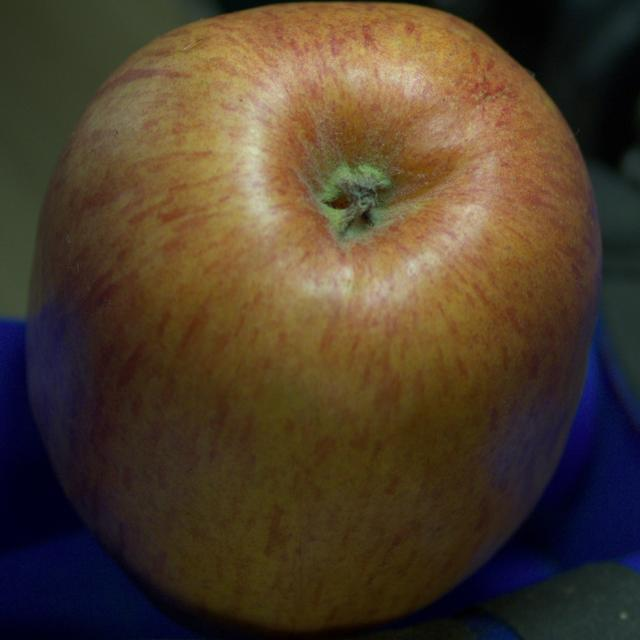apple: (25, 2, 600, 635)
